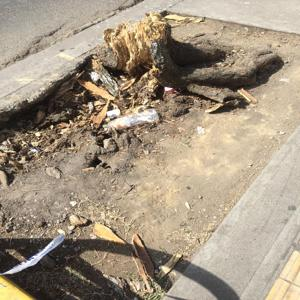plastic: (5, 230, 71, 282)
plastic bottle: (94, 113, 162, 129)
